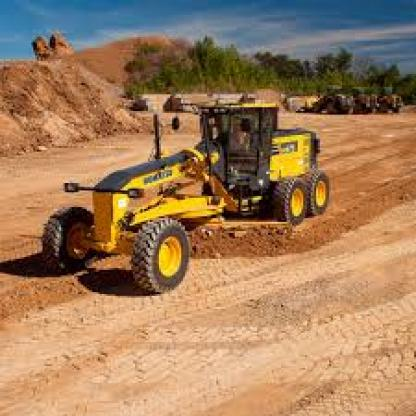bull_dozer/loader/grader: (19, 78, 350, 310)
